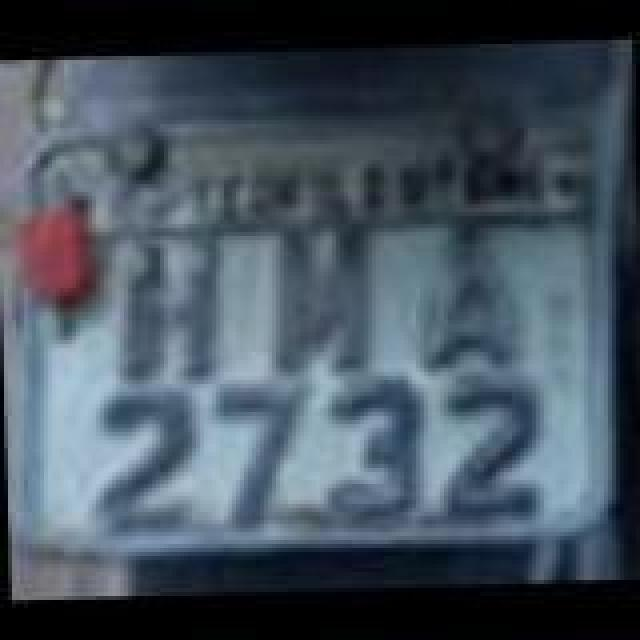2: (432, 374, 544, 522), (88, 390, 200, 538)
3: (318, 370, 426, 526)
7: (204, 380, 308, 532)
A: (422, 218, 522, 374)
H: (118, 230, 226, 394)
M: (266, 216, 382, 376)
